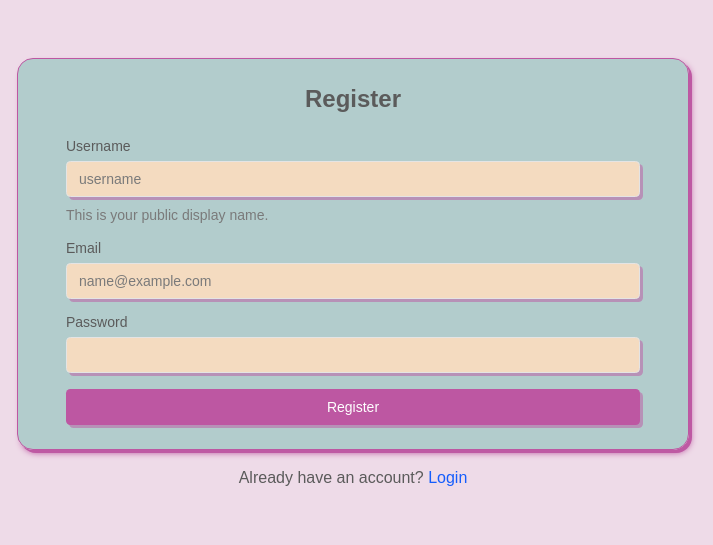
Test: Auth: Login & Registration › shows validation errors on empty submit
Click the submit button at (353, 407), box [66,389,640,425]
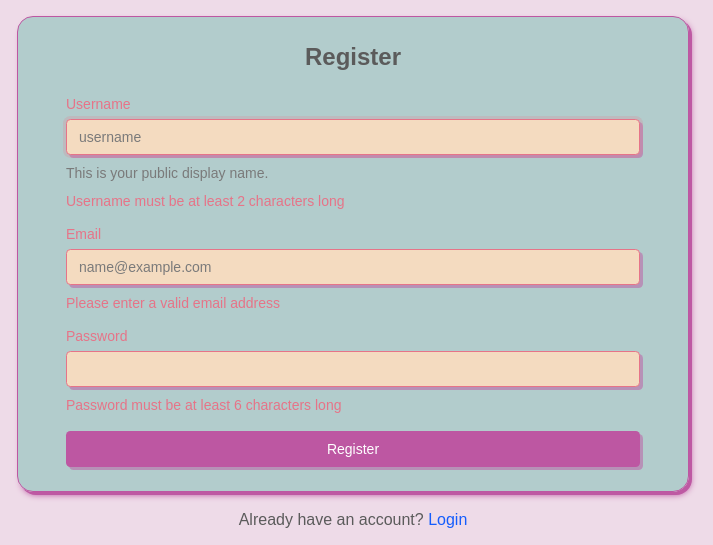
expect the text "Username must be at least 2 characters long" is shown: met, box [66,193,345,209]
expect the text "Please enter a valid email address" is shown: met, box [66,295,280,311]
expect the text "Password must be at least 6 characters long" is shown: met, box [66,397,342,413]
